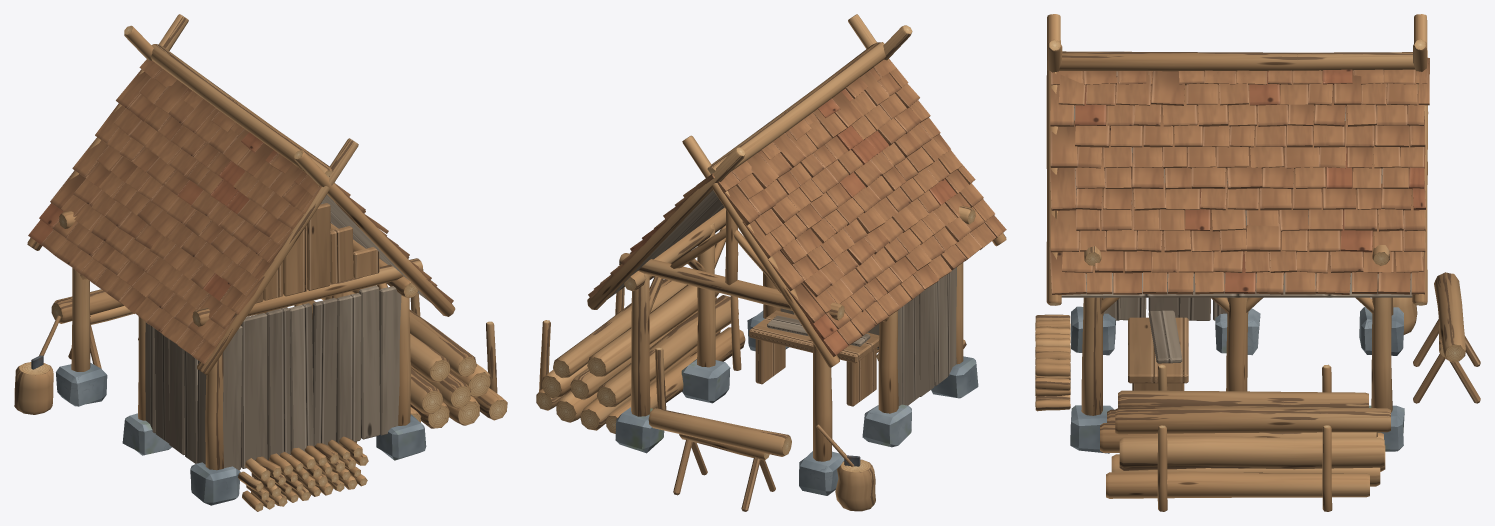
File: bw_wood_camp.fbx
The picture shows the model from 3 angles, left to right: view 1: azimuth 30°, elevation 25°; view 2: azimuth 150°, elevation 25°; view 3: azimuth 270°, elevation 25°; orthographic projection. The views are drawn at different scales.
Visible parts, largest first — view 1: bw_wood_camp; view 2: bw_wood_camp; view 3: bw_wood_camp.
Part boxes in pixels (box(x1,y1,x2,y2)): bw_wood_camp: box(14, 14, 507, 511); bw_wood_camp: box(536, 14, 1006, 511); bw_wood_camp: box(1035, 14, 1480, 511).
Bounding box in the file's own units: 3.21 × 2.85 × 3.09.
